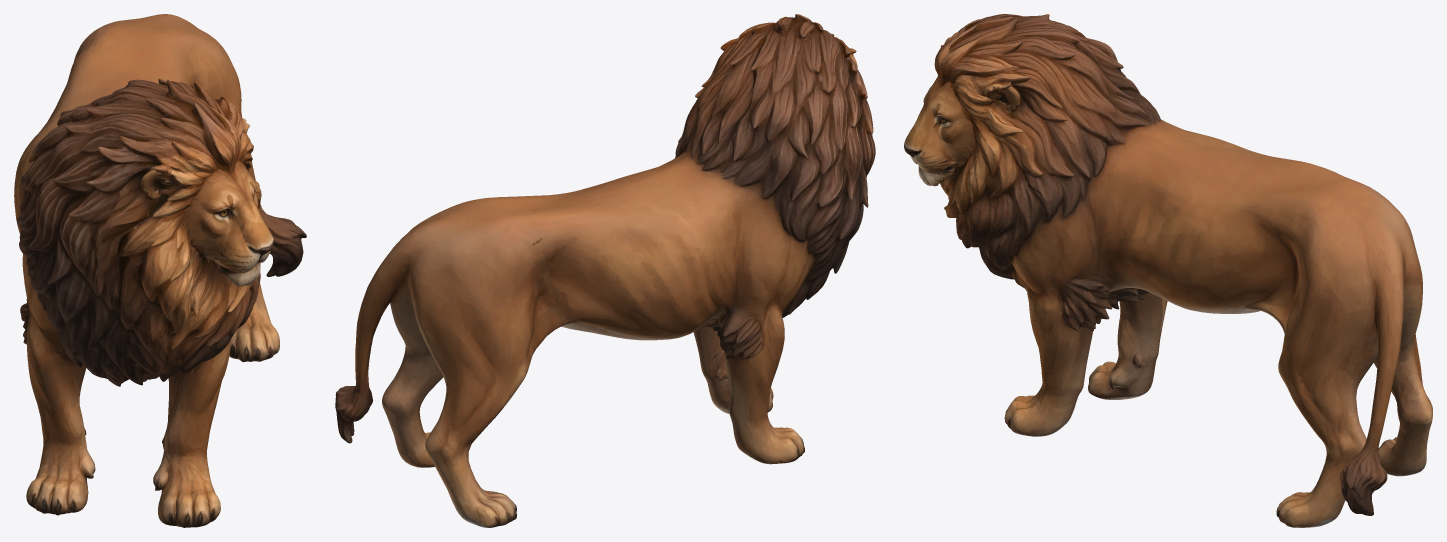
Rendered from nemean_lion__embermane.glb.
3 renders of one model, left to right at view 1: azimuth 30°, elevation 25°; view 2: azimuth 150°, elevation 25°; view 3: azimuth 270°, elevation 25°, orthographic. The views are drawn at different scales.
Visible parts, largest first — view 1: Mesh_0; view 2: Mesh_0; view 3: Mesh_0.
Part boxes in pixels (x1,y1,x2,y2): Mesh_0: [14, 14, 306, 527]; Mesh_0: [335, 14, 875, 527]; Mesh_0: [904, 14, 1432, 527].
Bounding box in the file's own units: 1.6 × 1.57 × 1.9.
Materials: 1 (1 with a texture image).
